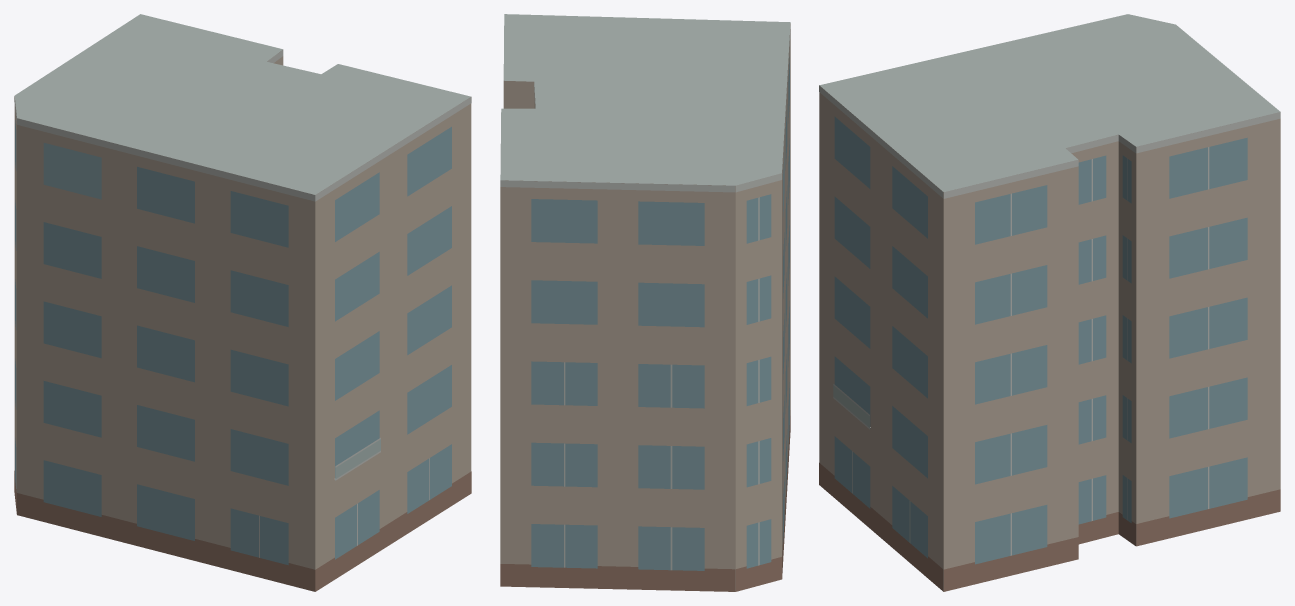
Rendered from survey-upis-32908860.glb.
The picture shows the model from 3 angles, left to right: view 1: azimuth 30°, elevation 25°; view 2: azimuth 150°, elevation 25°; view 3: azimuth 270°, elevation 25°; orthographic projection. The views are drawn at different scales.
Parts seen in each view (by area): view 1: survey-upis-32908860.tmp; view 2: survey-upis-32908860.tmp; view 3: survey-upis-32908860.tmp.
Part boxes in pixels (x1,y1,x2,y2): survey-upis-32908860.tmp: (14, 14, 471, 591); survey-upis-32908860.tmp: (500, 14, 790, 591); survey-upis-32908860.tmp: (819, 14, 1280, 591).
Bounding box in the file's own units: 14.03 × 14.65 × 15.34.
